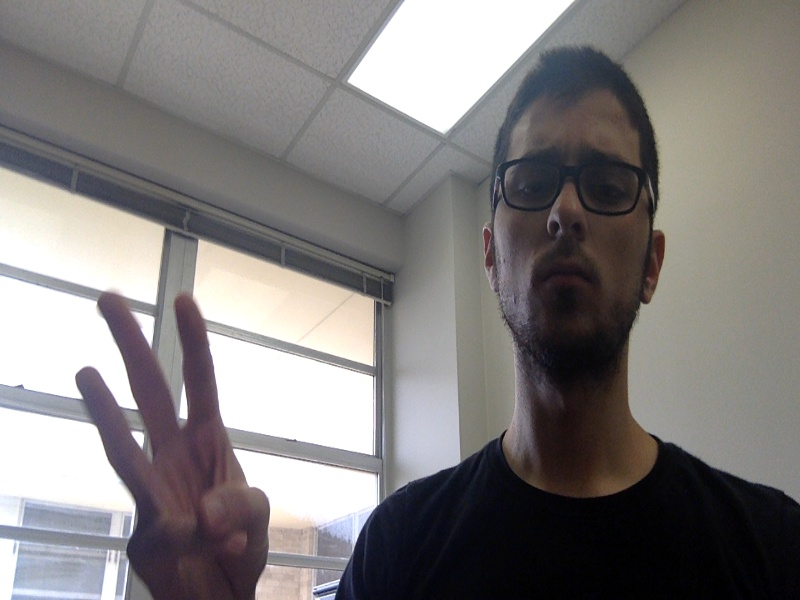3-hand: (76, 290, 268, 600)
